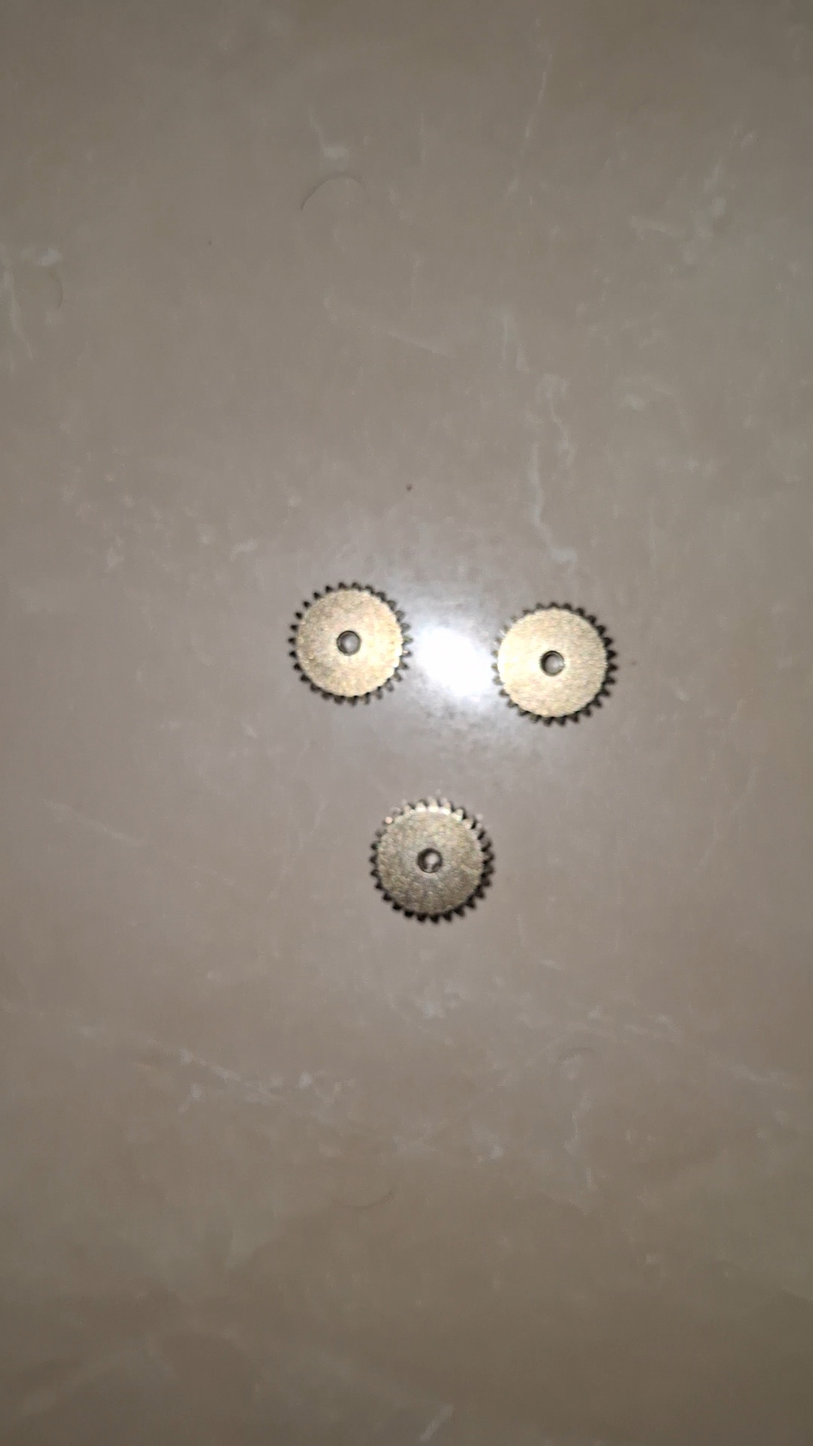spur gear: (371, 799, 493, 920), (494, 603, 615, 723), (289, 583, 410, 702)
